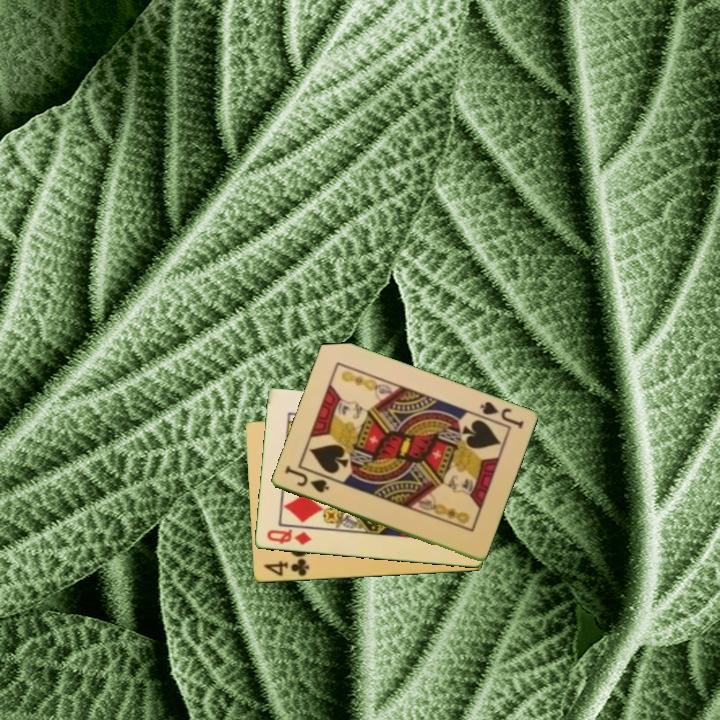4c: (260, 555, 312, 579)
Js: (476, 398, 526, 432), (281, 464, 332, 496)
Qd: (263, 526, 314, 548)
